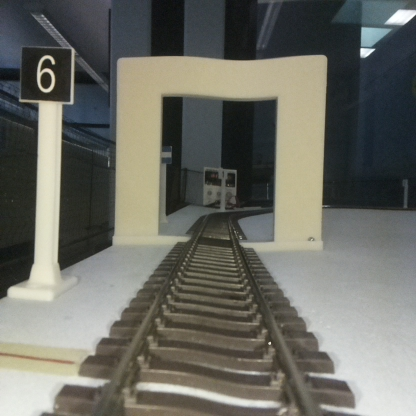black-info-6: (20, 48, 72, 297)
start: (159, 145, 172, 222)
white-info-1: (218, 167, 227, 211)
